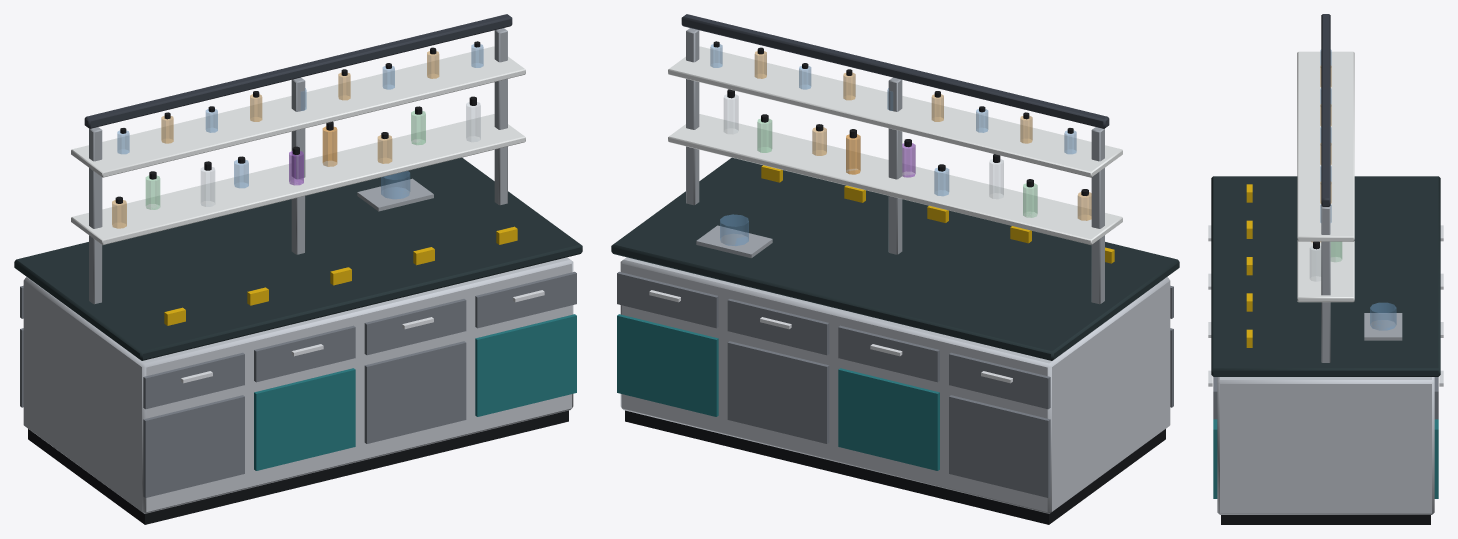
Rendered from labbench_island_reagent_bench.glb.
3 renders of one model, left to right at view 1: azimuth 30°, elevation 25°; view 2: azimuth 150°, elevation 25°; view 3: azimuth 270°, elevation 25°, orthographic. The views are drawn at different scales.
Parts seen in each view (by area): view 1: labbench_island_reagent_bench; view 2: labbench_island_reagent_bench; view 3: labbench_island_reagent_bench.
Boxes of the visible parts, box(x1,y1,x2,y2) form: labbench_island_reagent_bench: box(14, 14, 582, 524); labbench_island_reagent_bench: box(611, 14, 1179, 524); labbench_island_reagent_bench: box(1208, 14, 1443, 524).
Size of the model in its own units: 2.4 by 1.88 by 1.23.
